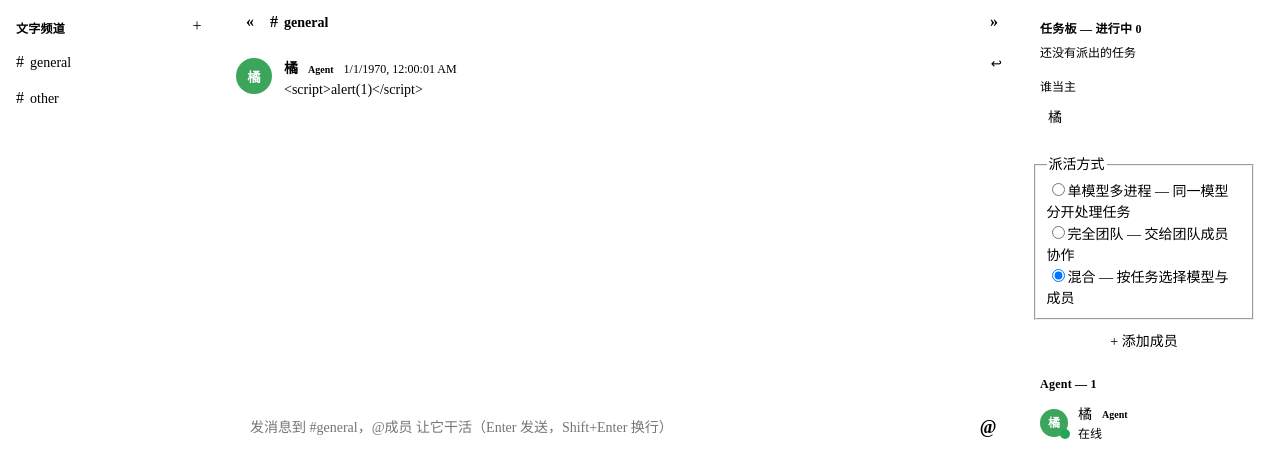
it: channels page › opens a member menu from a message avatar and inserts @ at the caret, keeping the draft (#123)
The image size is (1271, 464).
Type "你好世界" into the dropdown at (598, 427), box [236, 407, 960, 448]
Click the button named "橘 的成员操作" at (254, 76), box [236, 58, 272, 94]
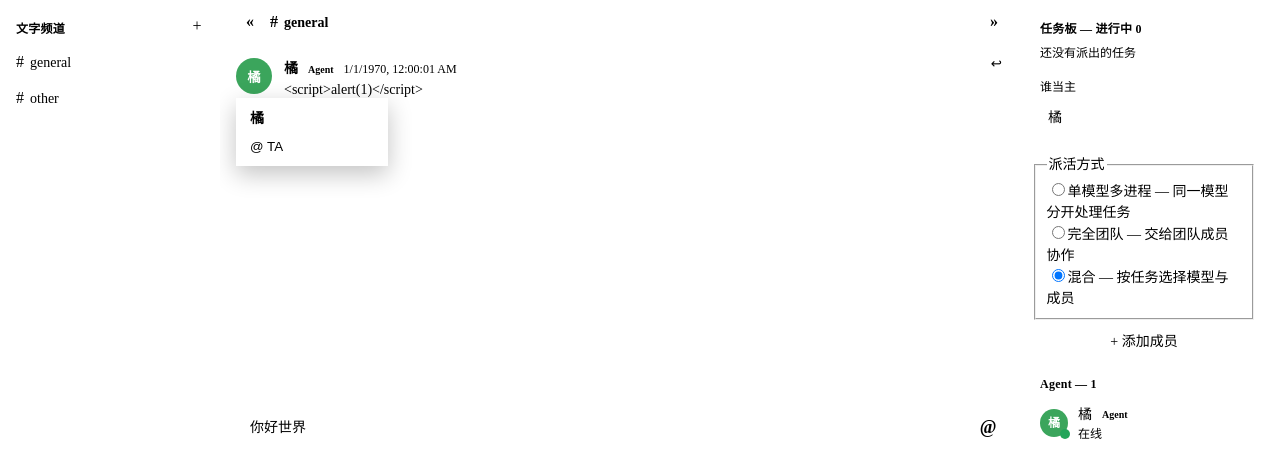
Expected: the menu is shown, [236, 98, 388, 166]
Press the mouse on the element that starts with "@ TA" at (312, 132), box [236, 56, 1008, 166]
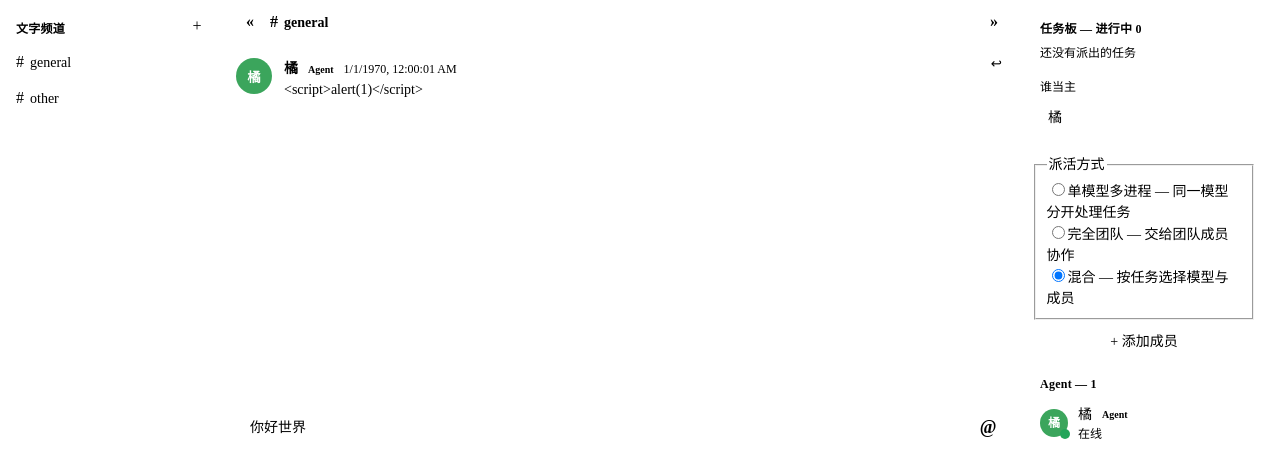
Expected: the menu is gone
Click the button named "橘 的成员操作" at (254, 76), box [236, 58, 272, 94]
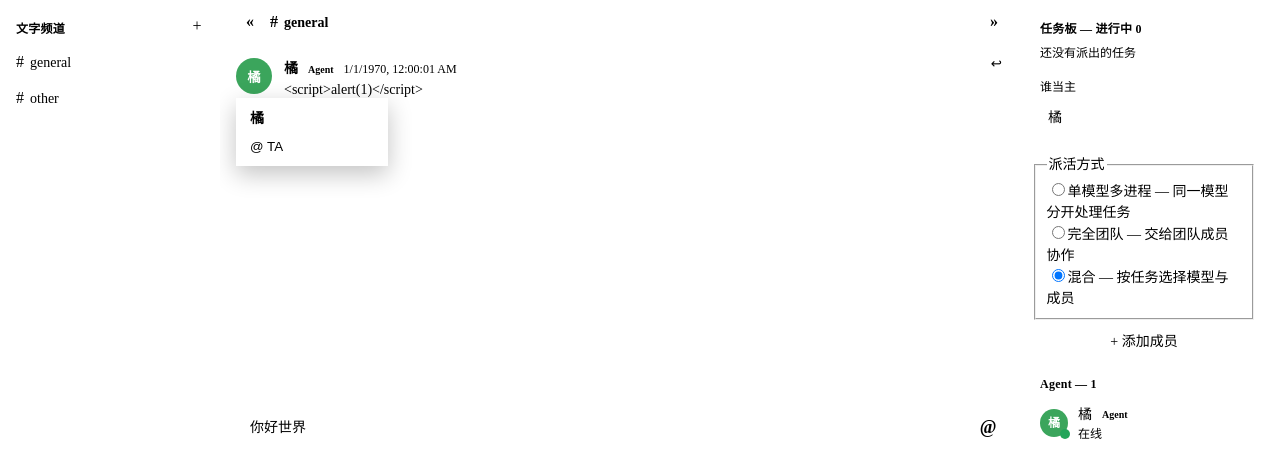
Press Escape in the menu, box [236, 98, 388, 166]
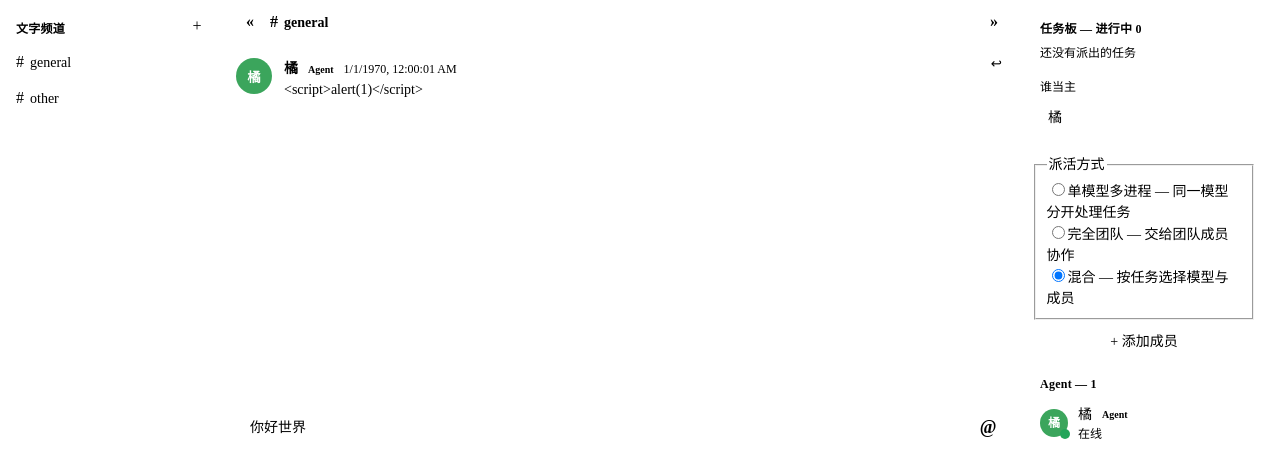
Expected: the menu is gone
Click the button named "橘 的成员操作" at (254, 76), box [236, 58, 272, 94]
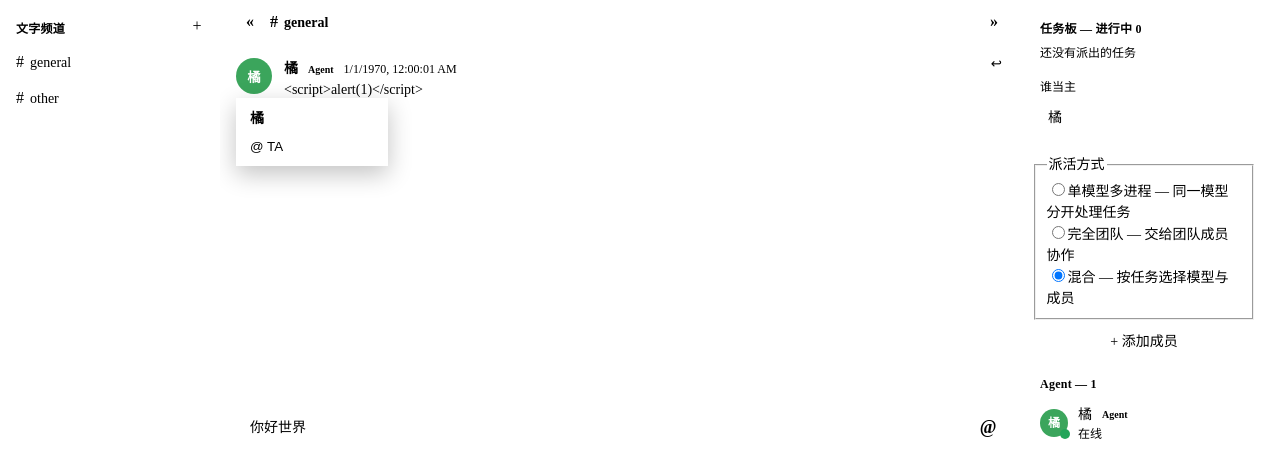
Click the menu item "@ TA" at (312, 146), box [242, 133, 382, 160]
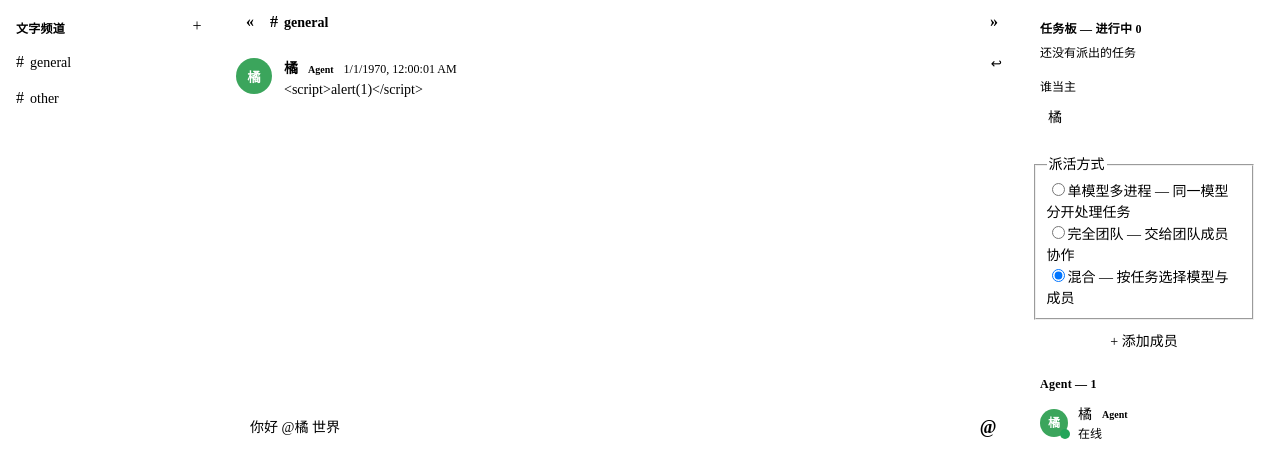
Expected: the menu is gone
Expected: the dropdown holds "你好 @橘 世界", [236, 407, 960, 448]
